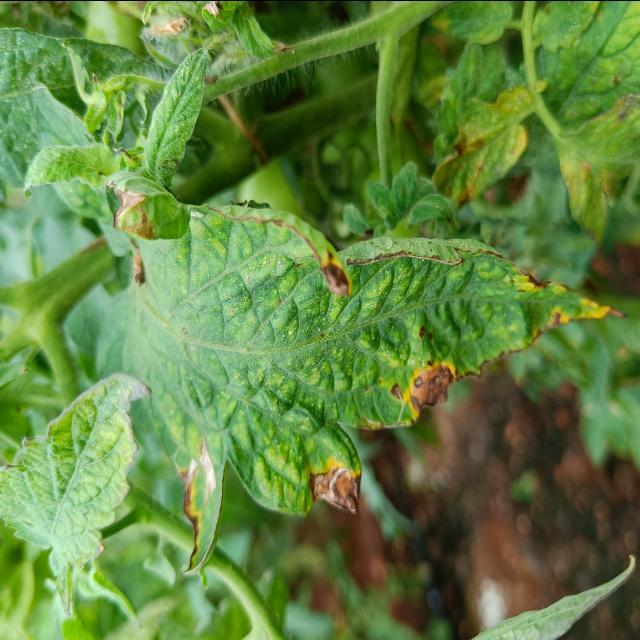Tomato mosaic virus leaf: (232, 196, 632, 522)
